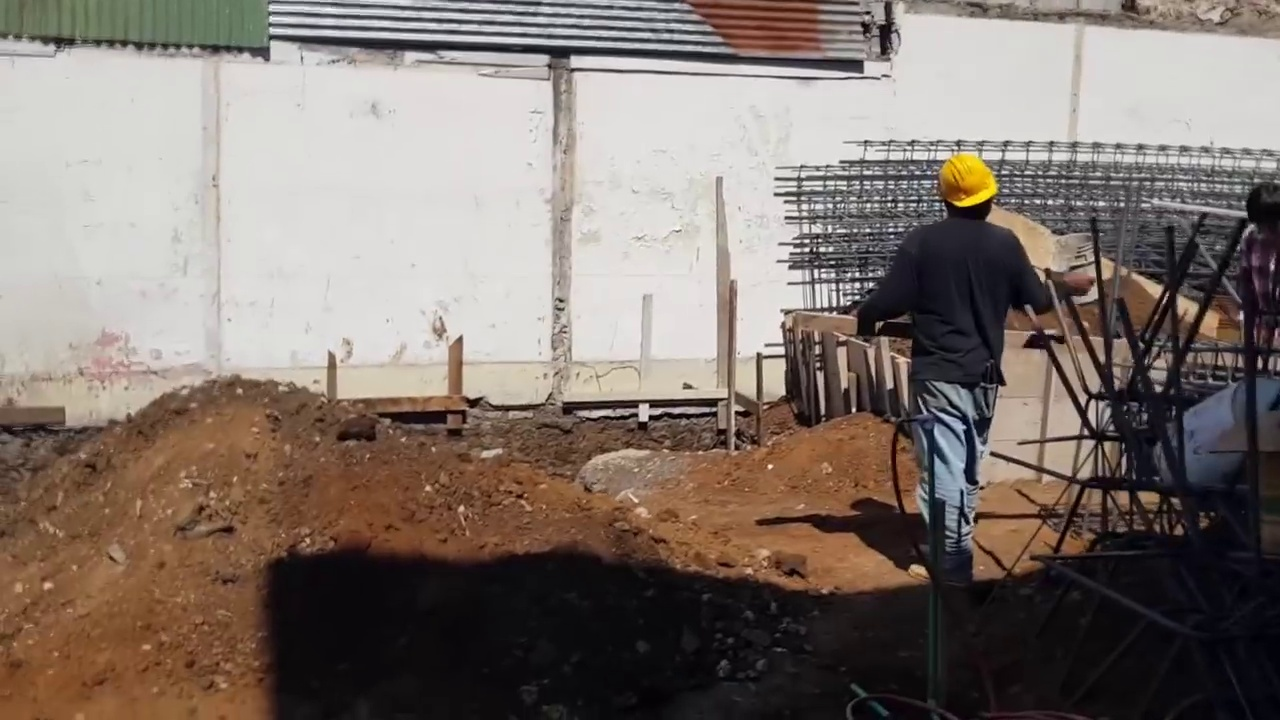helmet: (939, 151, 1005, 214)
helmet-off: (1237, 186, 1280, 239)
helmet-on: (934, 143, 1006, 231)
person: (834, 139, 1074, 616), (1235, 182, 1280, 381)
